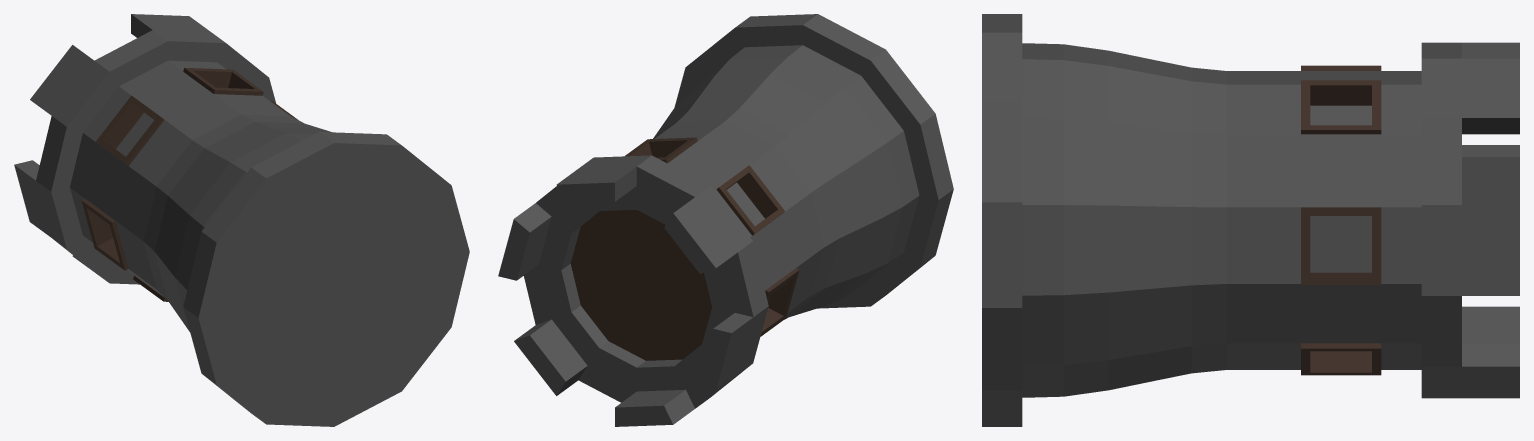
Rendered from tower1.fbx.
3 views of the same model, side by side, from view 1: azimuth 30°, elevation 25°; view 2: azimuth 150°, elevation 25°; view 3: azimuth 270°, elevation 25° (orthographic). The views are drawn at different scales.
Parts seen in each view (by area): view 1: tower1; view 2: tower1; view 3: tower1.
Boxes of the visible parts, x1,y1,x2,y2 form: tower1: (14,14,469,426); tower1: (498,14,953,426); tower1: (982,14,1519,426).
Size of the model in its own units: 187 by 187 by 243.
